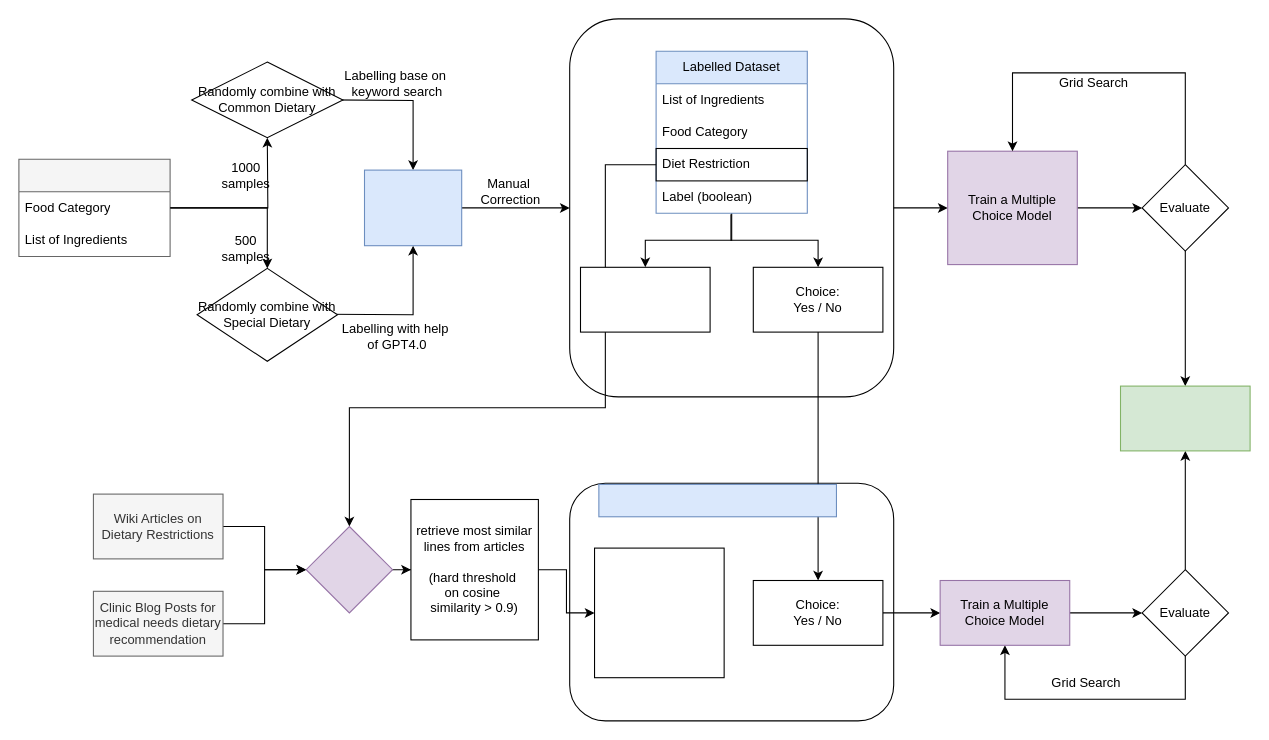
Some shapes in this 1269 by 740 pixel diagram are drawn without their labels. Here are the shapes that lost their labels. From the top down, the box of each, then its label:
(18, 158, 170, 256): FoodData Central
(363, 169, 462, 246): Raw Dataset
(579, 266, 710, 332): Prompt: Diet + Ingredients + food category
(1119, 385, 1250, 451): Best Model
(598, 483, 836, 517): Dataset with Information Retrieval
(305, 525, 393, 613): Instructor-large Embeddings
(593, 547, 724, 678): Prompt: Diet + Information on Diet + Ingredients + Food Category
